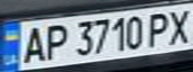0: (124, 12, 148, 51)
1: (109, 15, 130, 52)
3: (72, 18, 96, 57)
7: (90, 16, 112, 55)
A: (15, 24, 48, 64)
P: (142, 9, 175, 48), (39, 21, 69, 61)
X: (163, 6, 193, 46)
